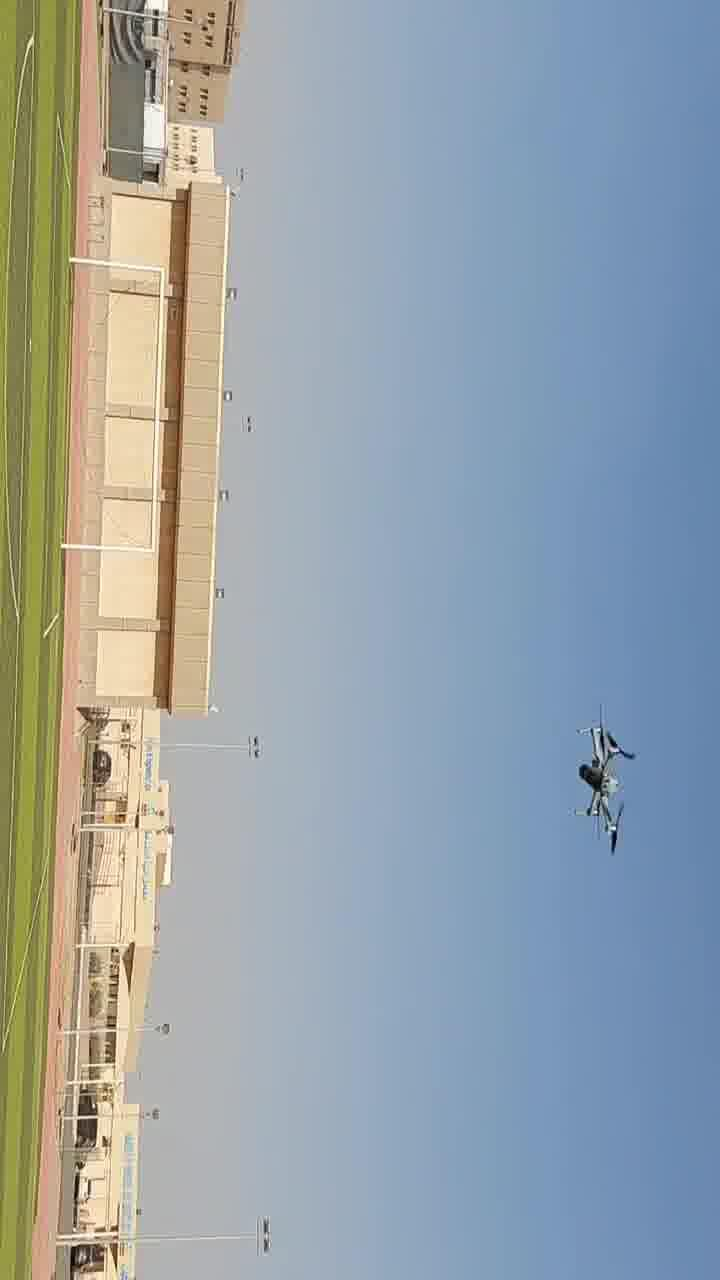drone: (397, 142, 483, 270)
